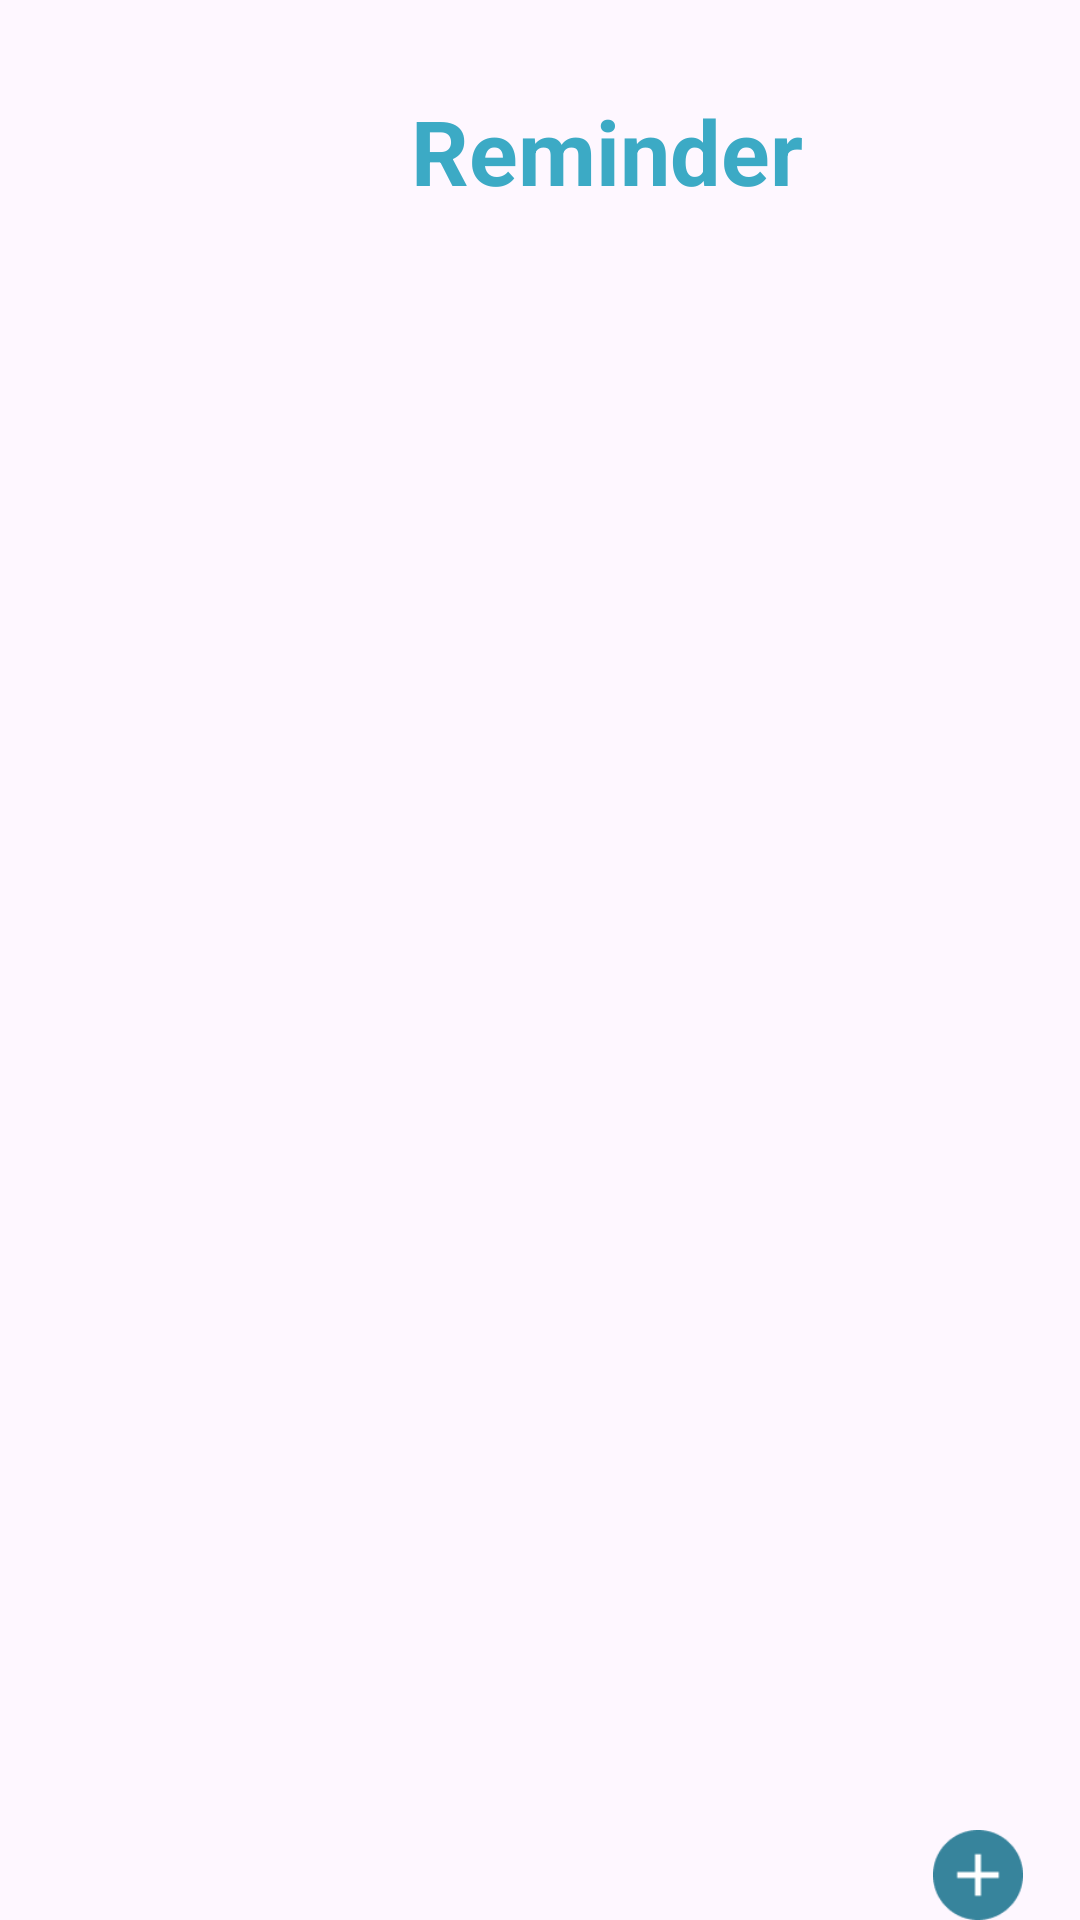

Point at icon controls on the screen. Image size 1080px x 1920px, points as point (x, y).
plus: point (978, 1875)
